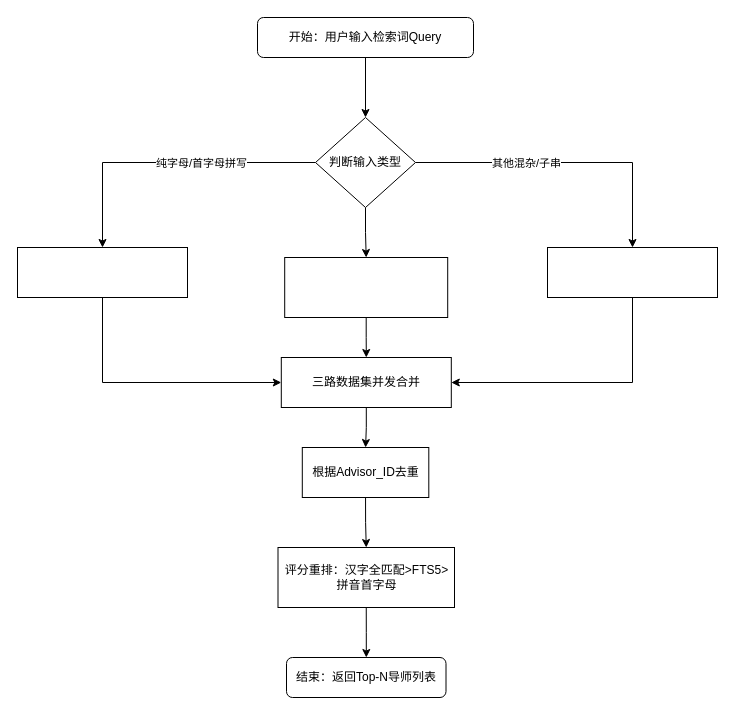
Image size: 735x715. Some labels were removed from this diagram. The centre of each missing label's shape, as x and y in pixels:
激活1路：拼音前缀索引匹配: (x=102, y=272)
激活2路：SQLite FTS5全文索引MATCH: (x=366, y=287)
激活3路：传统LIKE模糊适配: (x=632, y=272)
